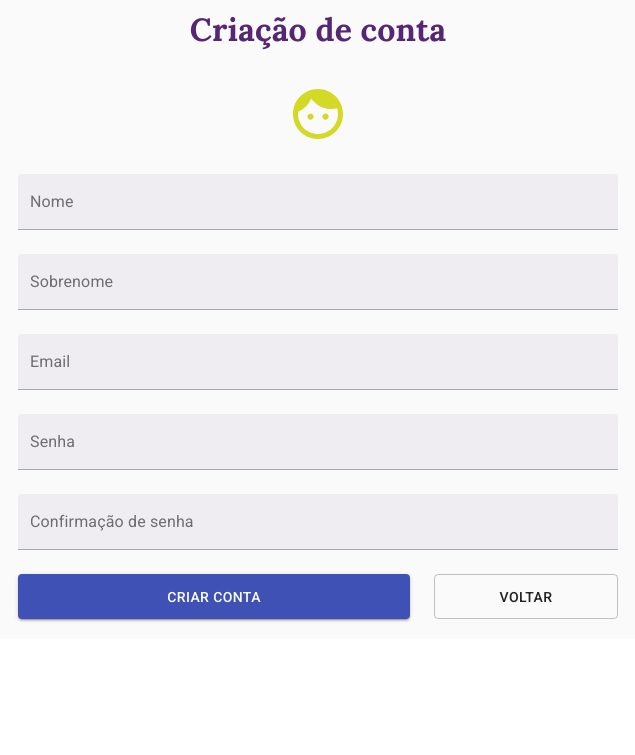
should show a error label when click in 'Criar Conta' button and don't fill the user name
Click the button with id "register-button": (214, 597) [18,574,410,619]
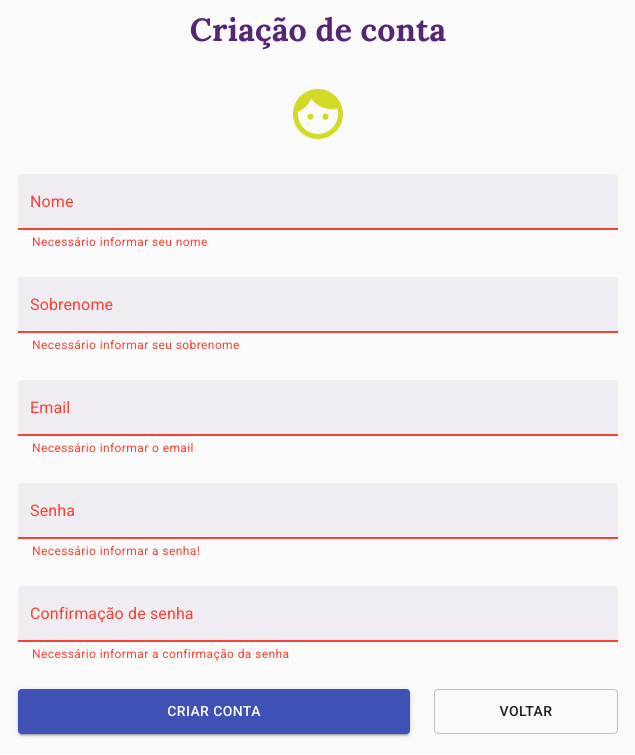
Check: the text "Necessário informar seu nome" is shown, box [32,235,208,249]
